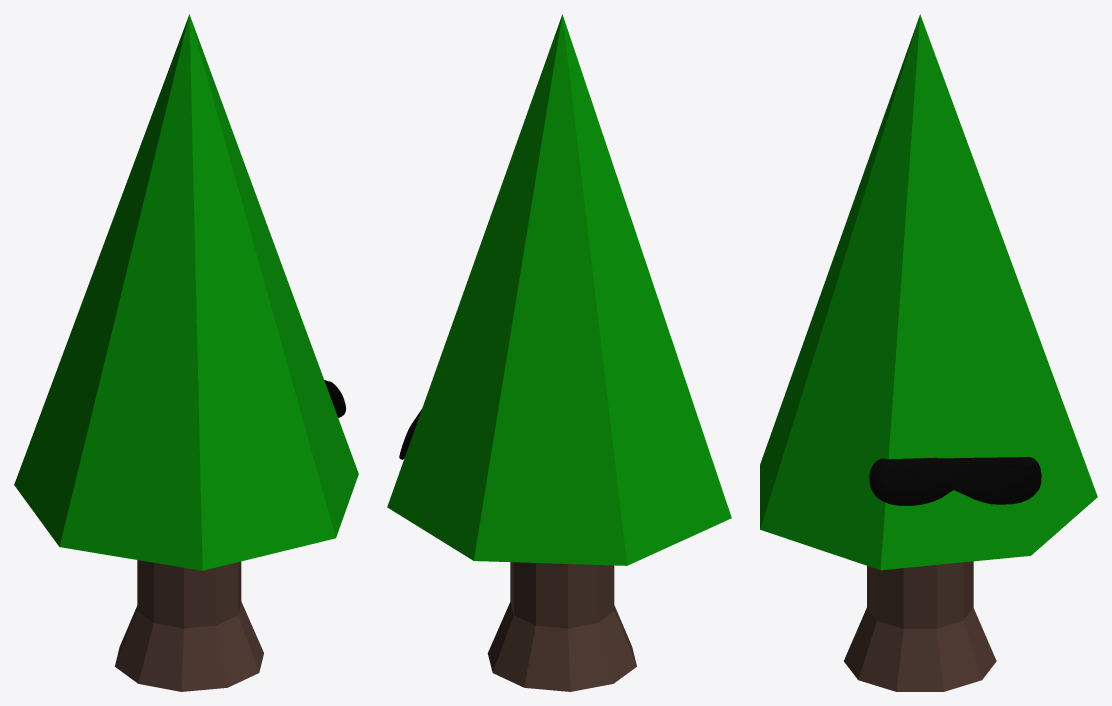
Rendered from Male_Tree.fbx.
3 renders of one model, left to right at view 1: azimuth 30°, elevation 25°; view 2: azimuth 150°, elevation 25°; view 3: azimuth 270°, elevation 25°, orthographic.
Visible parts, largest first — view 1: Trunk; view 2: Trunk; view 3: Trunk.
Part boxes in pixels (x1,y1,x2,y2): Trunk: [14, 14, 358, 691]; Trunk: [387, 14, 731, 691]; Trunk: [760, 14, 1097, 691].
Size of the model in its own units: 195 by 402 by 190.
